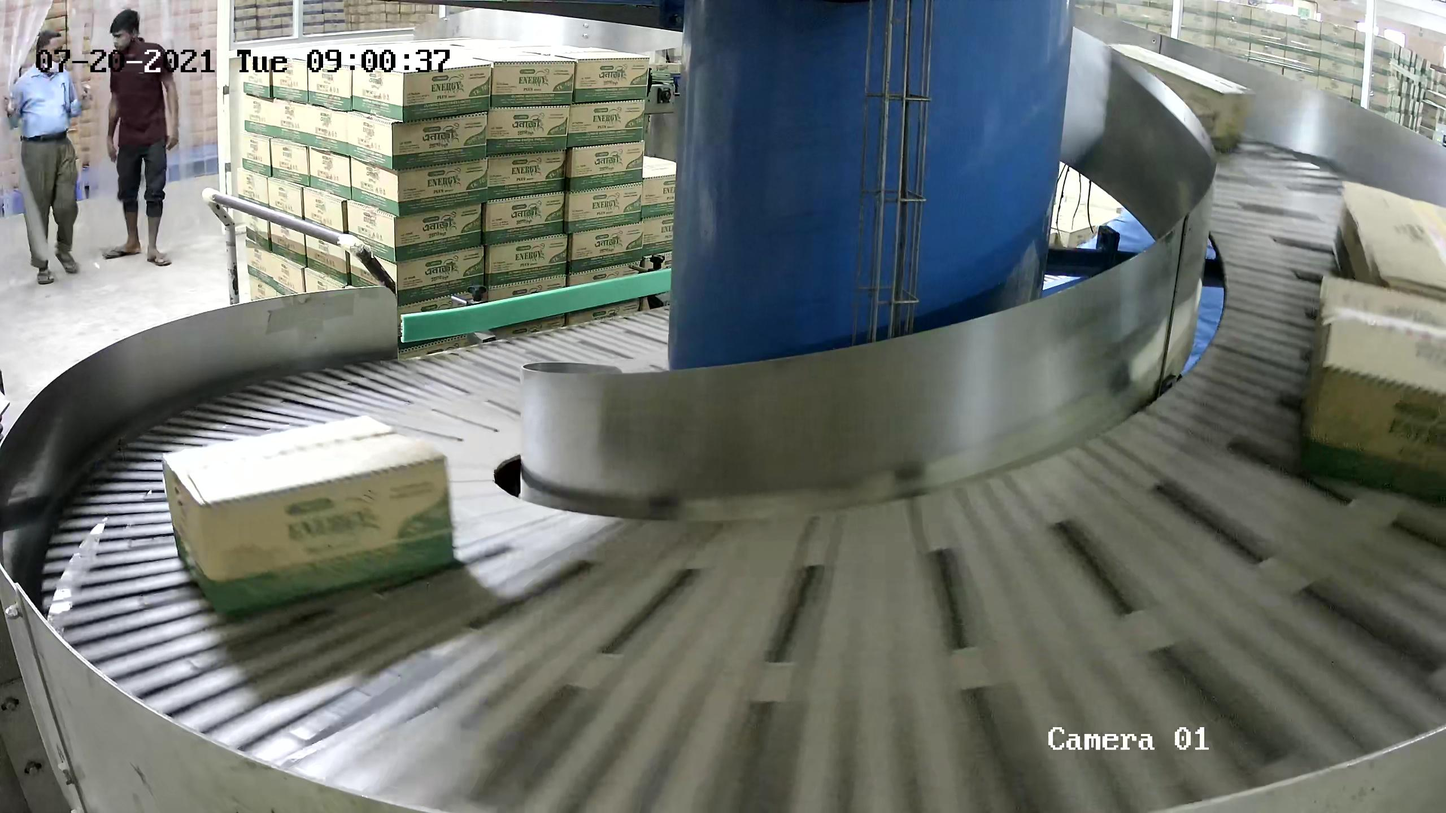Box: (160, 412, 457, 623), (1302, 270, 1446, 503), (1107, 44, 1258, 153), (1330, 178, 1446, 304)
